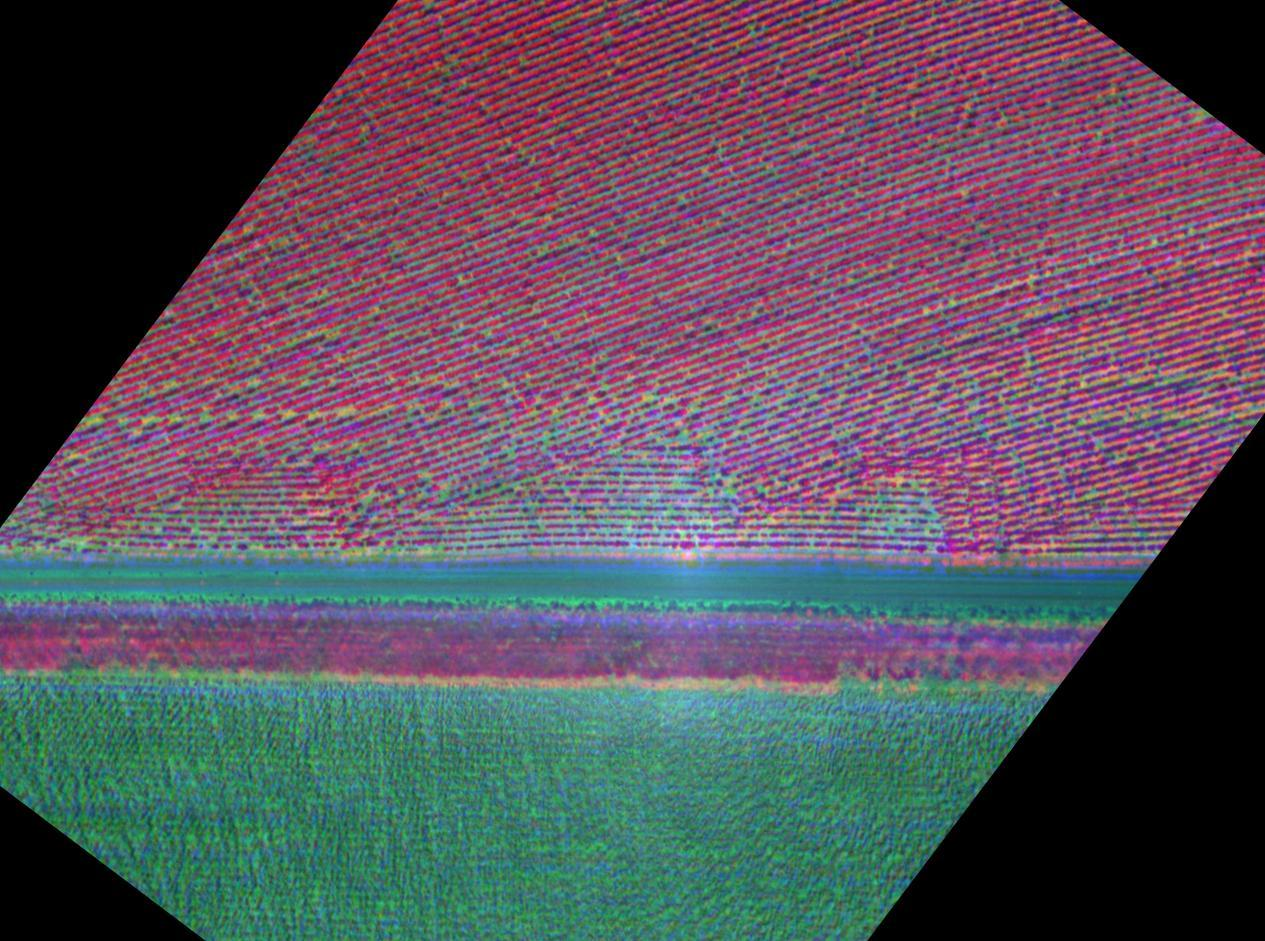dc: (727, 491, 731, 495), (877, 495, 881, 499), (890, 523, 894, 527), (926, 524, 930, 528), (641, 496, 644, 500), (544, 437, 547, 440), (539, 520, 542, 523), (573, 521, 576, 524), (646, 395, 648, 399), (626, 521, 629, 523)
